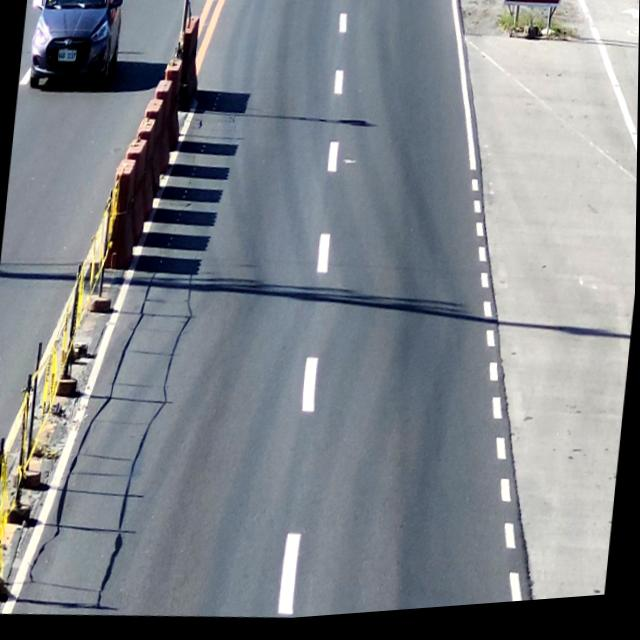License-Plate: (55, 46, 79, 65)
